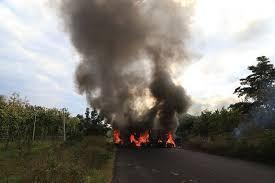fire: (102, 118, 182, 149)
